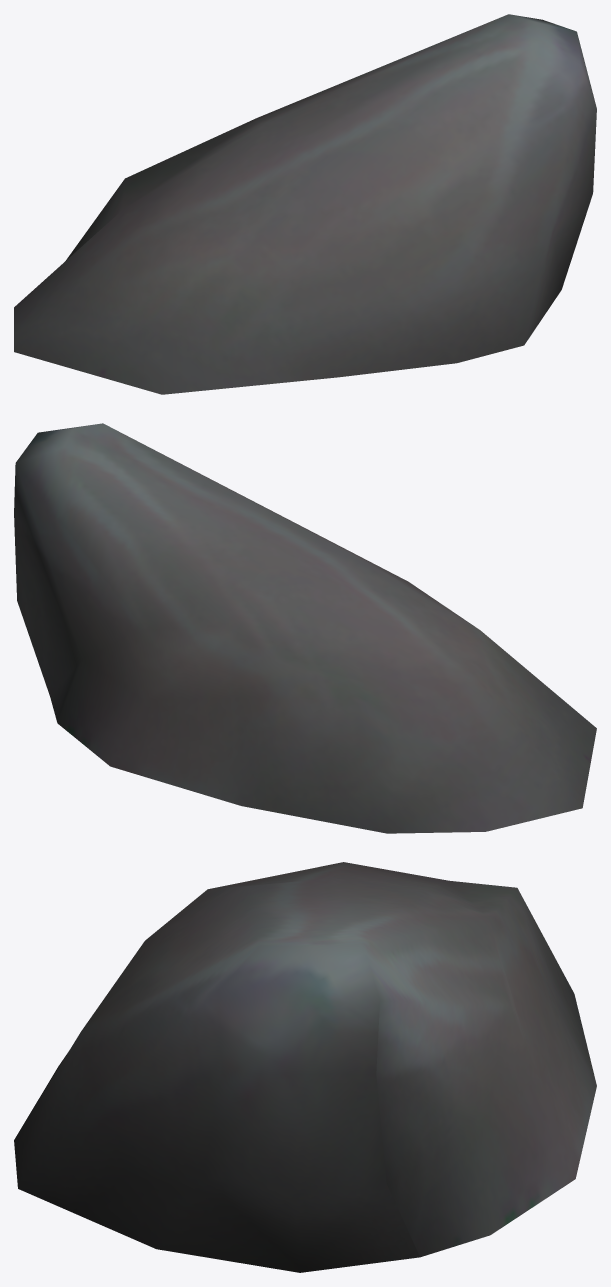
The model's file is Stone_1.FBX.
The picture shows the model from 3 angles, top to bottom: view 1: azimuth 30°, elevation 25°; view 2: azimuth 150°, elevation 25°; view 3: azimuth 270°, elevation 25°; orthographic projection. The views are drawn at different scales.
Visible parts, largest first — view 1: Stone_1; view 2: Stone_1; view 3: Stone_1.
Boxes of the visible parts, x1,y1,x2,y2 form: Stone_1: (14,14,596,394); Stone_1: (14,423,596,833); Stone_1: (14,862,596,1272).
Size of the model in its own units: 29.04 by 11.19 by 18.37.
